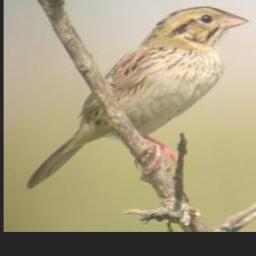Sparrow: (24, 5, 250, 192)
